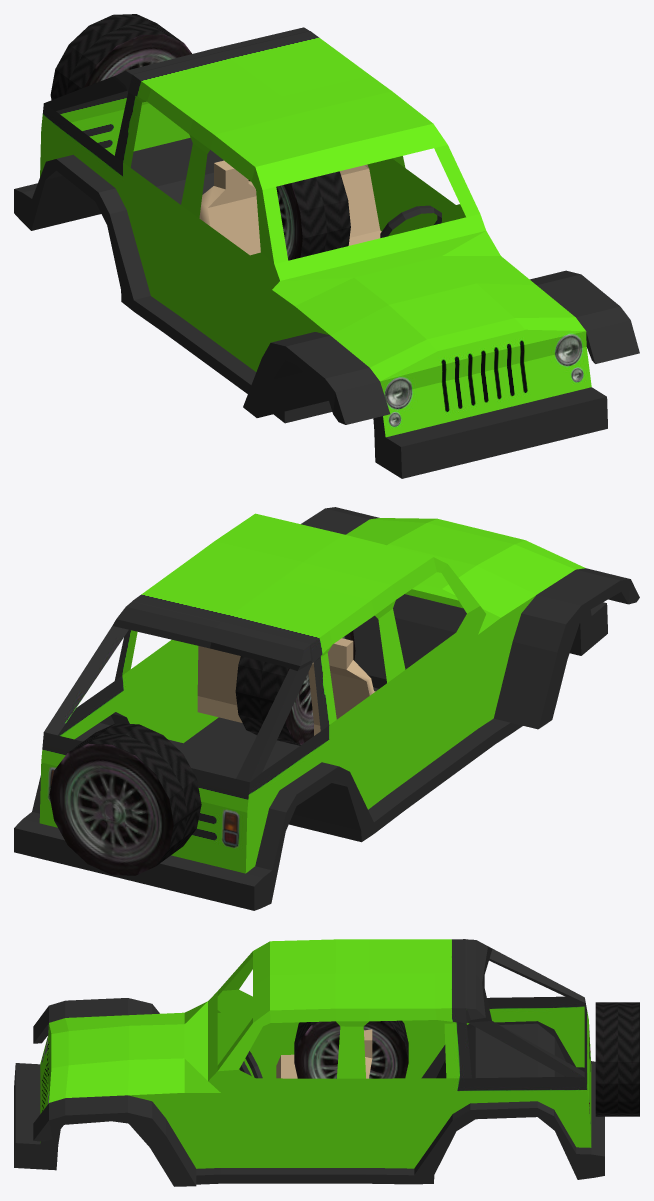
Rendered from jeep lime.glb.
3 renders of one model, top to bottom at view 1: azimuth 30°, elevation 25°; view 2: azimuth 150°, elevation 25°; view 3: azimuth 270°, elevation 25°, orthographic. The views are drawn at different scales.
Visible parts, largest first — view 1: body, wheel; view 2: body, wheel; view 3: body, wheel.
Part boxes in pixels (x1=…): body: x1=14, y1=14, x2=639, y2=478; wheel: x1=248, y1=171, x2=350, y2=260; body: x1=14, y1=507, x2=639, y2=910; wheel: x1=235, y1=630, x2=355, y2=745; body: x1=14, y1=939, x2=639, y2=1186; wheel: x1=294, y1=1020, x2=408, y2=1078.
Bounding box in the file's own units: 2.04 × 1.36 × 4.67.
Materials: 1 (1 with a texture image).
